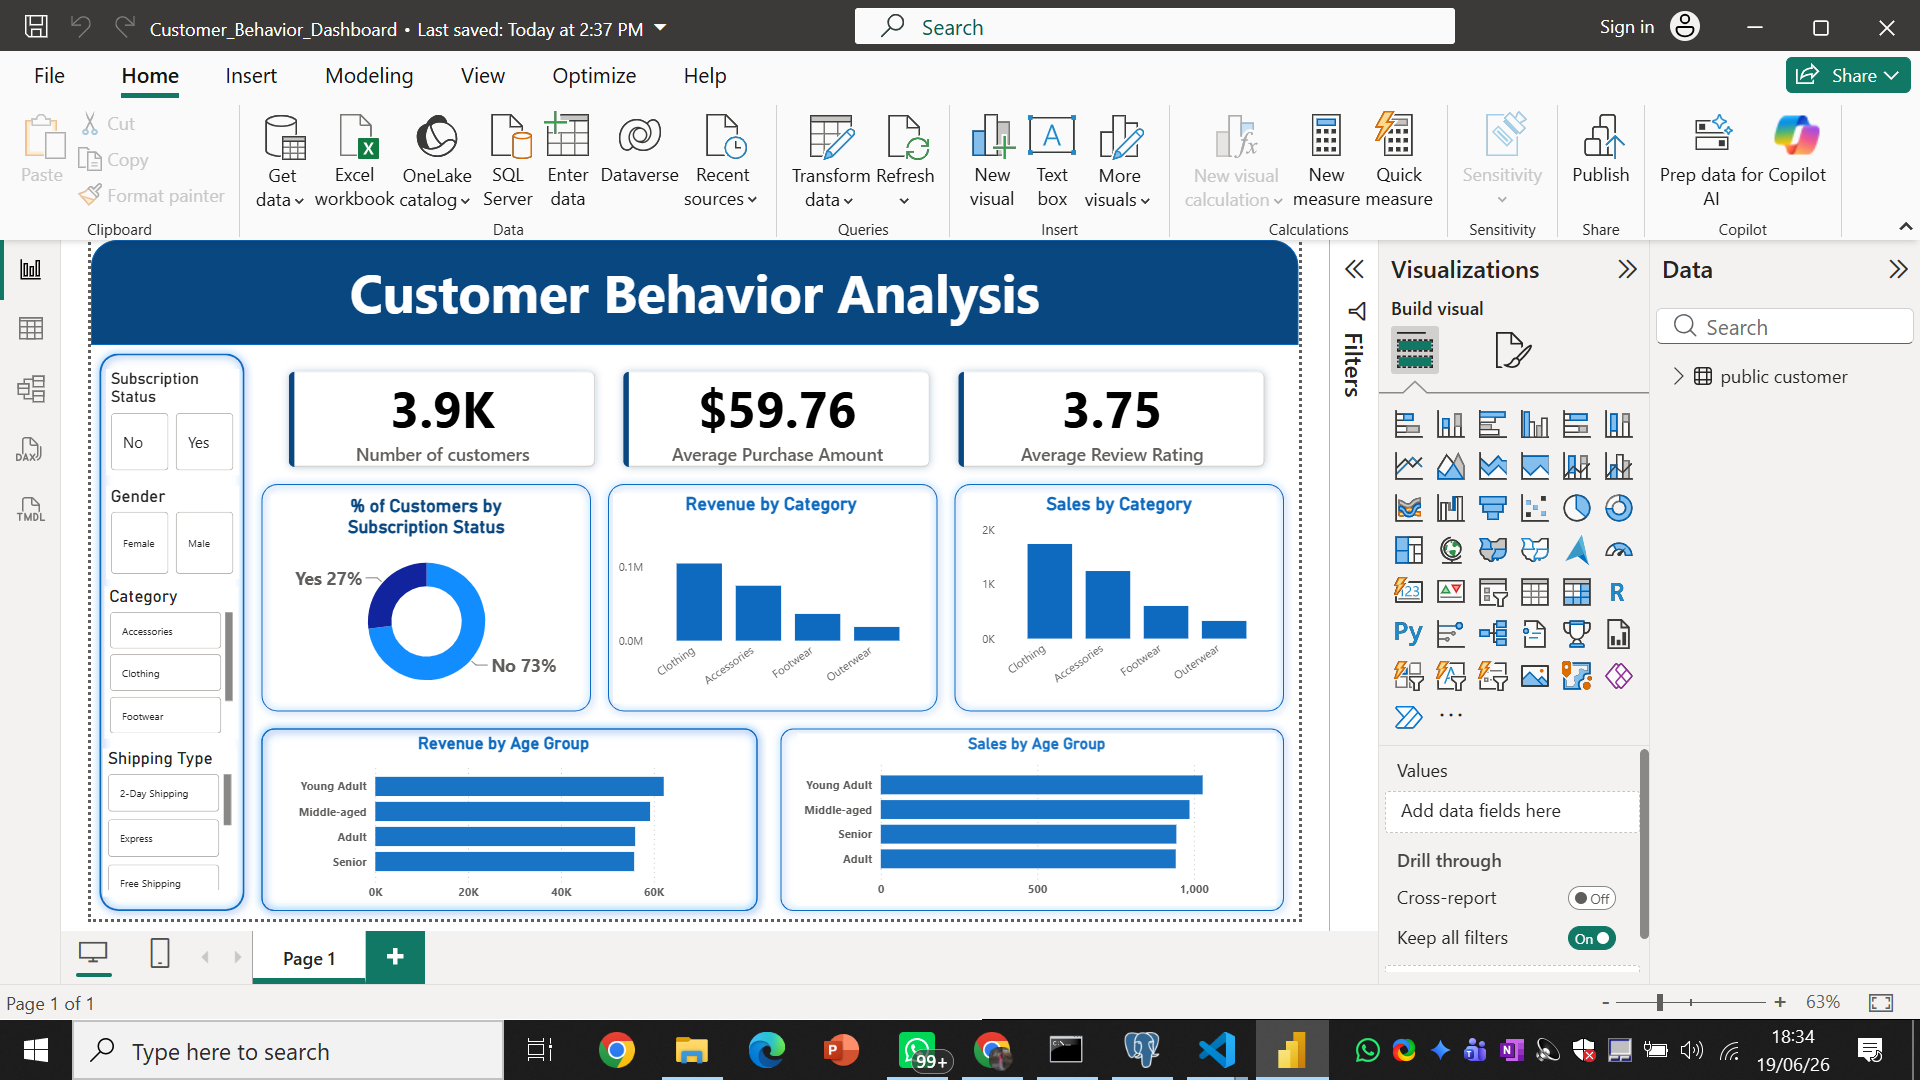

This screenshot's page, from the dashboard's own definition file:
{"tool":"powerbi","page":{"name":"Page 1","canvas":[1280,720],"ordinal":0},"visuals":[{"type":"shape","box":[0,0,1280.4,111.3],"z":0},{"type":"cardVisual","fields":{"Data":["public customer.Number of customers","public customer.Average Purchase Amount","public customer.Average Review Rating"]},"box":[181.3,111.3,1092.7,157.5],"z":1000},{"type":"textbox","box":[0,11.1,1280.4,87.5],"z":2000},{"type":"shape","box":[906.6,249.7,367.4,259.3],"z":3000},{"type":"shape","box":[171.8,249.7,367.4,259.3],"z":4000},{"type":"donutChart","title":"% of Customers by Subscription Status","fields":{"Category":["public customer.subscription_status"],"Y":["CountNonNull(public customer.customer_id)"]},"box":[190.9,270.4,329.3,219.5],"z":5000},{"type":"clusteredColumnChart","title":"Sales by Category","fields":{"Y":["CountNonNull(public customer.customer_id)"],"Category":["public customer.category"]},"box":[924.1,268.8,332.4,219.5],"z":6000},{"type":"shape","box":[539.2,249.7,367.4,259.3],"z":7000},{"type":"clusteredColumnChart","title":"Revenue by Category","fields":{"Y":["Sum(public customer.purchase_amount)"],"Category":["public customer.category"]},"box":[553.5,268.8,335.6,222.7],"z":8000},{"type":"shape","box":[0,111.3,171.8,609.2],"z":9000},{"type":"advancedSlicerVisual","title":"Gender","fields":{"Values":["public customer.gender"]},"box":[15.9,260.9,141.6,98.6],"z":10000},{"type":"advancedSlicerVisual","title":"Subscription Status","fields":{"Values":["public customer.subscription_status"]},"box":[15.9,136.8,141.6,112.9],"z":11000},{"type":"advancedSlicerVisual","title":"Category","fields":{"Values":["public customer.category"]},"box":[14.3,367.4,141.6,160.7],"z":12000},{"type":"advancedSlicerVisual","title":"Shipping Type","fields":{"Values":["public customer.shipping_type"]},"box":[12.7,539.2,141.6,155.9],"z":13000},{"type":"clusteredBarChart","title":"Revenue by Age Group","fields":{"Y":["Sum(public customer.purchase_amount)"],"Category":["public customer.age_group"]},"box":[213.1,523.3,448.6,186.1],"z":14000},{"type":"shape","box":[171.8,509,544,211.6],"z":15000},{"type":"shape","box":[722.1,509,551.9,211.6],"z":15001},{"type":"shape","box":[171.8,508.4,544,211.6],"z":15002},{"type":"clusteredBarChart","title":"Sales by Age Group","fields":{"Y":["CountNonNull(public customer.customer_id)"],"Category":["public customer.age_group"]},"box":[749.2,523.3,507.4,182.9],"z":15003}]}

Visuals, with their boxes on the page's 1280x720 design canvas (x1, y1, x2, y2). These are canvas units, not pixel positions in the 1920x1080 screenshot, which may show the page scaled, cropped or inside an application window:
shape: Rect(0, 0, 1280, 111)
cardVisual - public customer.Number of customers x public customer.Average Purchase Amount: Rect(181, 111, 1274, 269)
textbox: Rect(0, 11, 1280, 99)
shape: Rect(907, 250, 1274, 509)
shape: Rect(172, 250, 539, 509)
"% of Customers by Subscription Status" donutChart: Rect(191, 270, 520, 490)
"Sales by Category" clusteredColumnChart: Rect(924, 269, 1256, 488)
shape: Rect(539, 250, 907, 509)
"Revenue by Category" clusteredColumnChart: Rect(554, 269, 889, 492)
shape: Rect(0, 111, 172, 720)
"Gender" advancedSlicerVisual: Rect(16, 261, 158, 360)
"Subscription Status" advancedSlicerVisual: Rect(16, 137, 158, 250)
"Category" advancedSlicerVisual: Rect(14, 367, 156, 528)
"Shipping Type" advancedSlicerVisual: Rect(13, 539, 154, 695)
"Revenue by Age Group" clusteredBarChart: Rect(213, 523, 662, 709)
shape: Rect(172, 509, 716, 721)
shape: Rect(722, 509, 1274, 721)
shape: Rect(172, 508, 716, 720)
"Sales by Age Group" clusteredBarChart: Rect(749, 523, 1257, 706)
